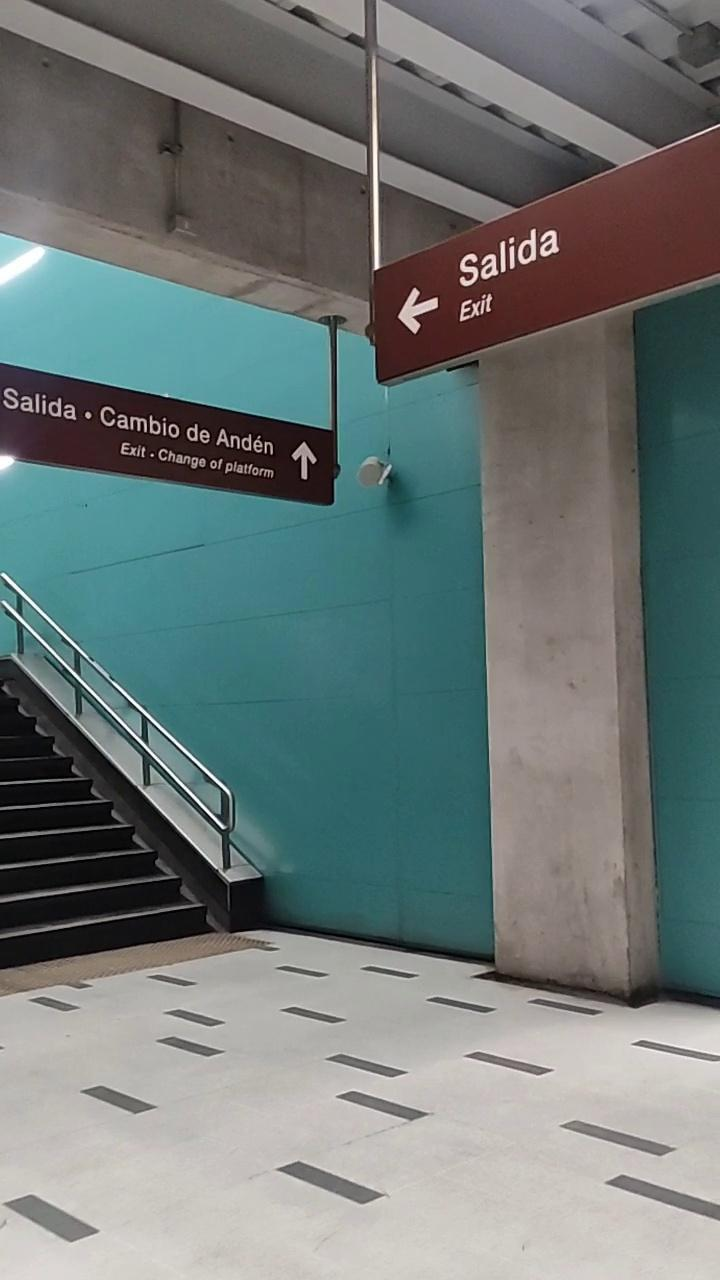left arrow: (386, 272, 458, 354)
up arrow: (287, 430, 327, 495)
